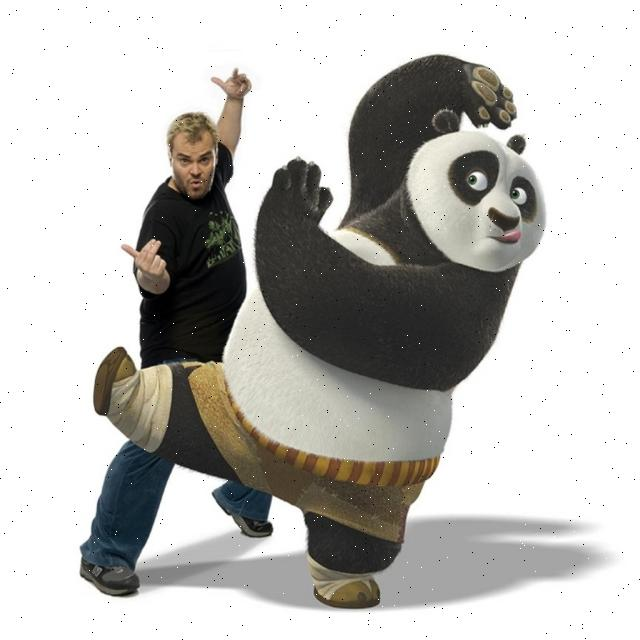panda: (92, 49, 547, 609)
